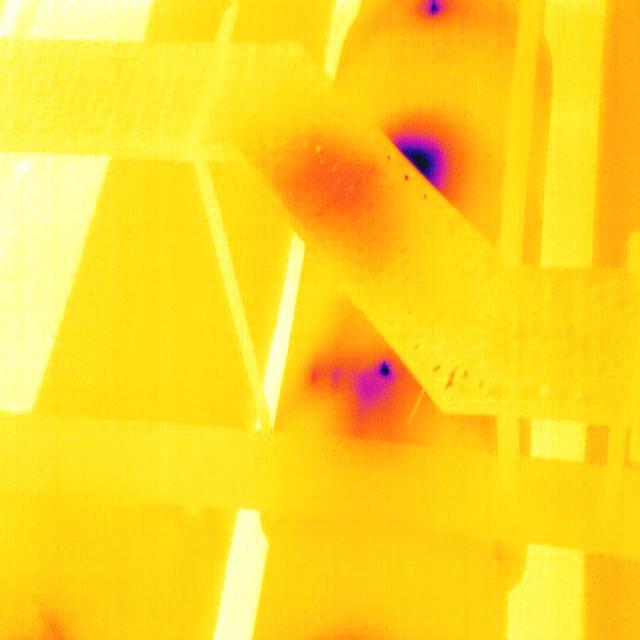leakage: (279, 134, 379, 253), (309, 353, 408, 415), (392, 121, 464, 192), (415, 0, 452, 20)
